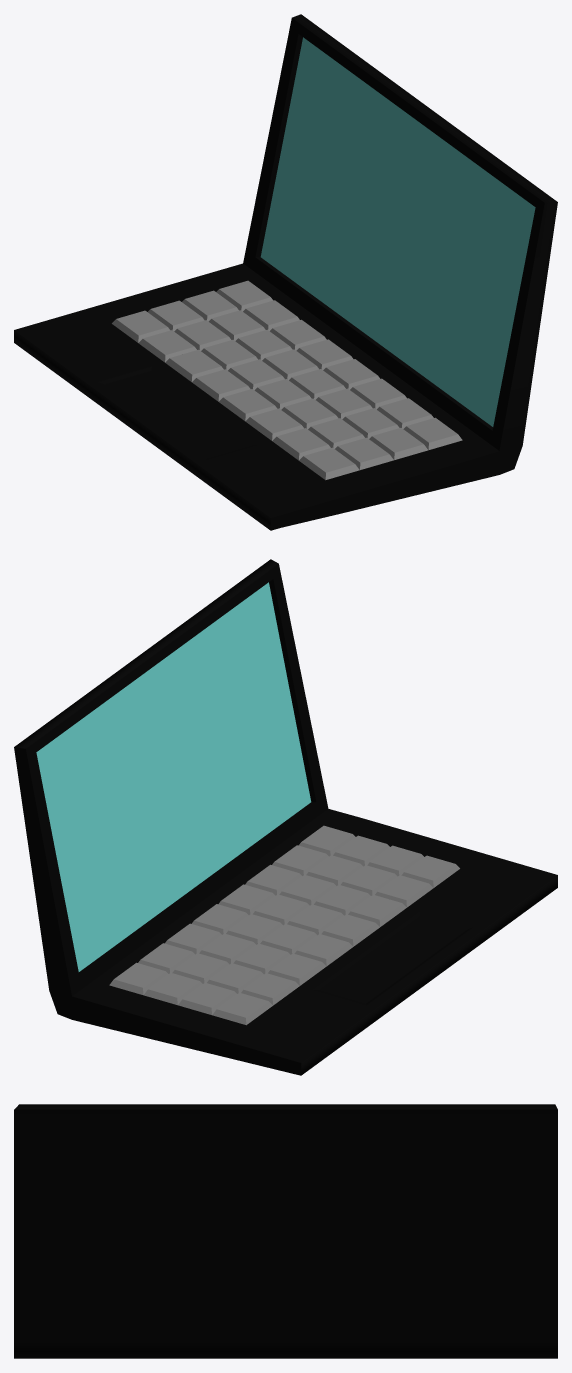
File: SM_Laptop.fbx
3 renders of one model, top to bottom at view 1: azimuth 30°, elevation 25°; view 2: azimuth 150°, elevation 25°; view 3: azimuth 270°, elevation 25°, orthographic. The views are drawn at different scales.
Visible parts, largest first — view 1: SM_Laptop; view 2: SM_Laptop; view 3: SM_Laptop.
Part boxes in pixels (x1,y1,x2,y2): SM_Laptop: [14, 14, 557, 530]; SM_Laptop: [14, 559, 557, 1075]; SM_Laptop: [14, 1104, 557, 1358].
Bounding box in the file's own units: 21.34 × 33.05 × 18.36.
Materials: 1 (1 with a texture image).
